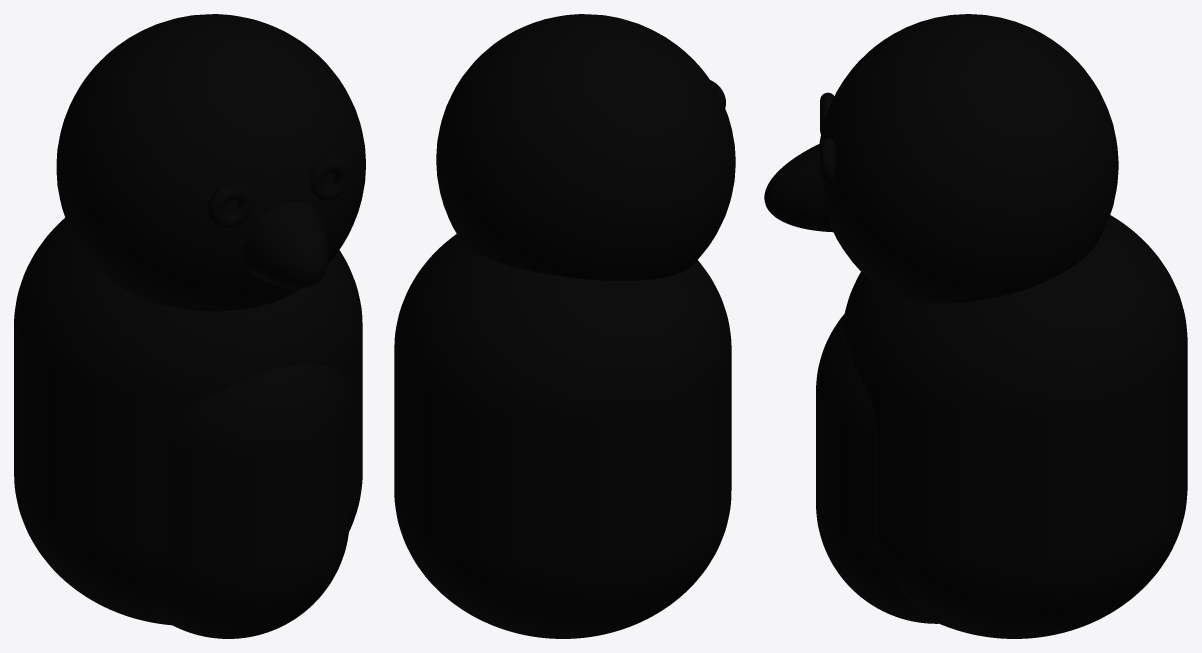
The model's file is penguin2.glb.
The picture shows the model from 3 angles, left to right: view 1: azimuth 30°, elevation 25°; view 2: azimuth 150°, elevation 25°; view 3: azimuth 270°, elevation 25°; orthographic projection. The views are drawn at different scales.
Parts seen in each view (by area): view 1: mesh_id43, mesh_id39, mesh_id45, mesh_id78, mesh_id111, mesh_id117; view 2: mesh_id43, mesh_id39; view 3: mesh_id43, mesh_id39, mesh_id45, mesh_id78, mesh_id117.
Part boxes in pixels (x1,y1,x2,y2): mesh_id43: (14,218,362,625); mesh_id39: (56,14,365,311); mesh_id45: (155,364,349,638); mesh_id78: (244,201,328,289); mesh_id111: (208,183,252,227); mesh_id117: (309,157,350,200); mesh_id43: (394,234,731,638); mesh_id39: (436,14,735,280); mesh_id43: (843,215,1187,638); mesh_id39: (819,14,1118,303); mesh_id45: (816,314,938,623); mesh_id78: (764,144,832,232); mesh_id117: (820,137,835,183).
Bounding box in the file's own units: 0.2372 × 0.4472 × 0.2901.
5 materials, 5 textured.
